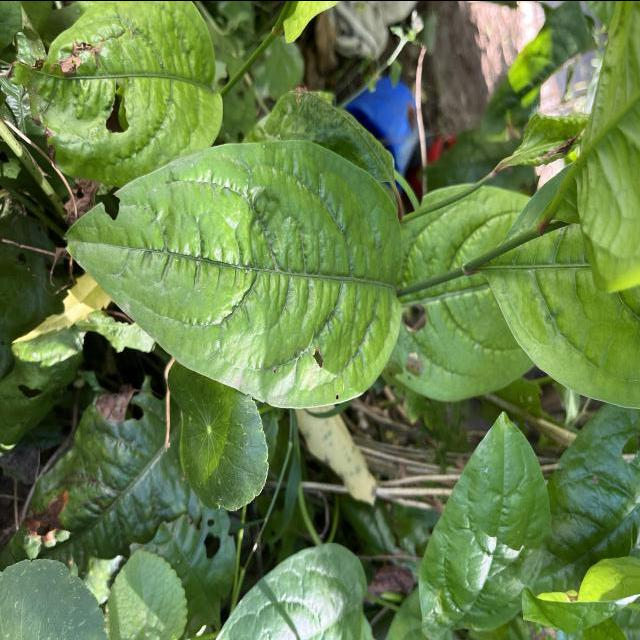Plumbago indica: (58, 138, 414, 413)
